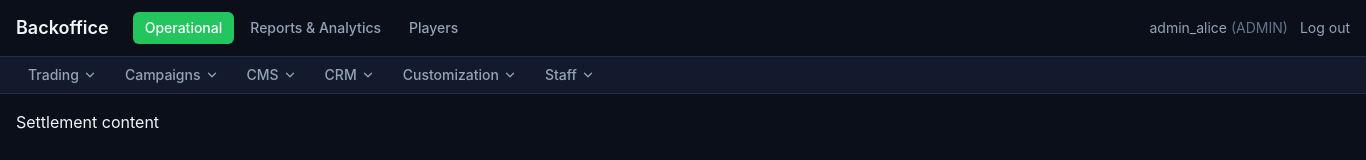
Test: AppShell top-level sections › switching to Players navigates straight there (only one item, no dropdown group needed)
Click the link "Players". click: (434, 28)
box: [409,19,458,36]
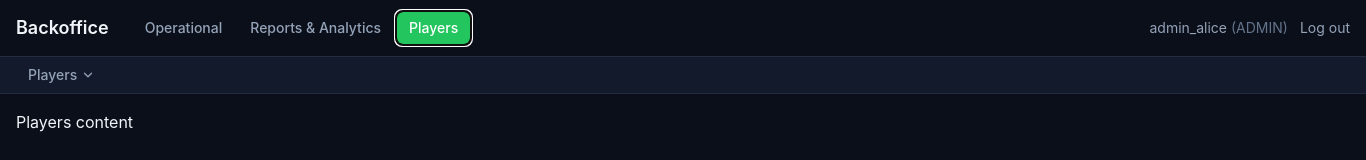
Now the text "Players content" is shown, box [16,112,133,132]
